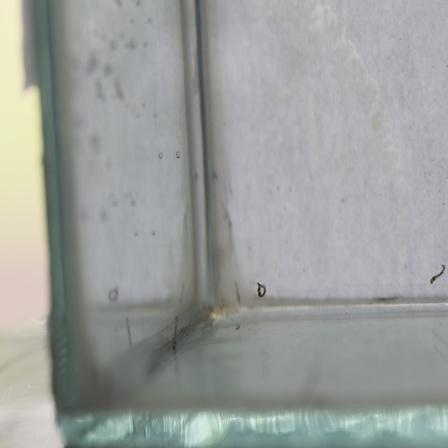Jentik-Nyamuk: (426, 262, 447, 291), (250, 279, 267, 300)
